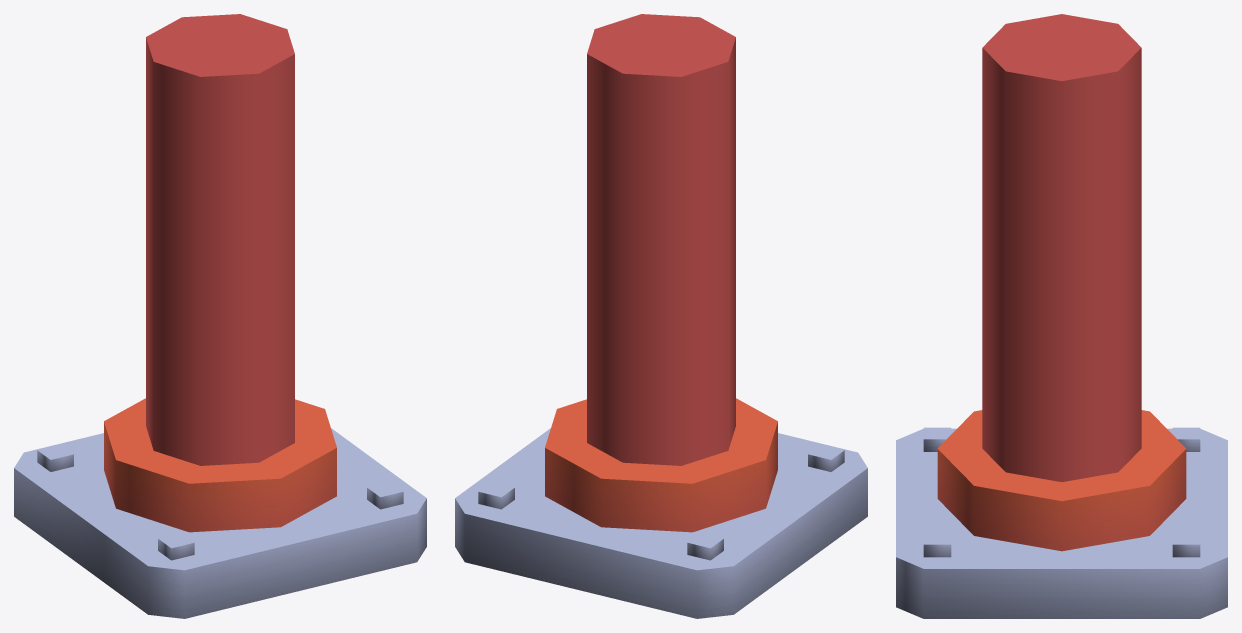
File: support-small-bottom.glb
3 renders of one model, left to right at view 1: azimuth 30°, elevation 25°; view 2: azimuth 150°, elevation 25°; view 3: azimuth 270°, elevation 25°, orthographic. The views are drawn at different scales.
Parts seen in each view (by area): view 1: support-small-bottom; view 2: support-small-bottom; view 3: support-small-bottom.
Part boxes in pixels (<box>): support-small-bottom: <box>14,14,426,618</box>; support-small-bottom: <box>455,14,867,618</box>; support-small-bottom: <box>896,14,1227,618</box>.
Size of the model in its own units: 0.6001 by 1 by 0.6001.
Materials: 1 (1 with a texture image).
